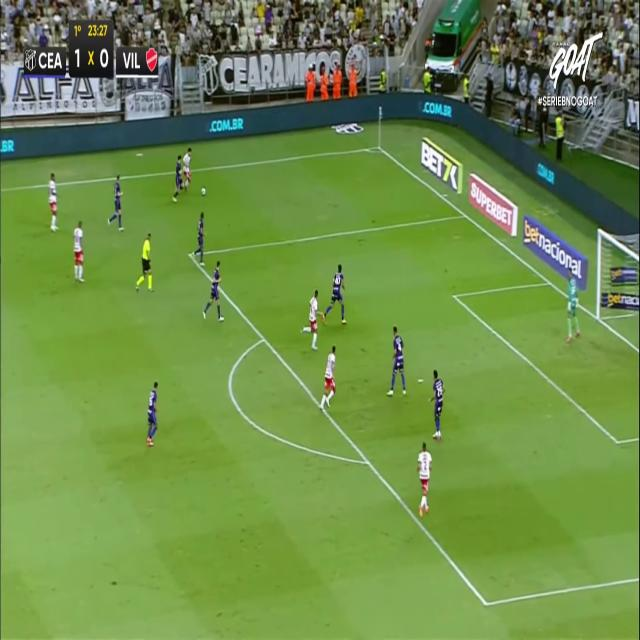ball: (200, 186, 206, 196)
goalkeeper: (566, 267, 580, 340)
player: (322, 264, 346, 324), (386, 325, 406, 396), (203, 259, 225, 321), (416, 441, 432, 517), (301, 289, 320, 349), (428, 368, 444, 439), (319, 344, 336, 410), (188, 211, 206, 266), (107, 174, 124, 231), (172, 153, 189, 202), (146, 380, 158, 445), (73, 220, 84, 281), (48, 171, 58, 231), (184, 148, 193, 194)
referee: (136, 232, 153, 291)
